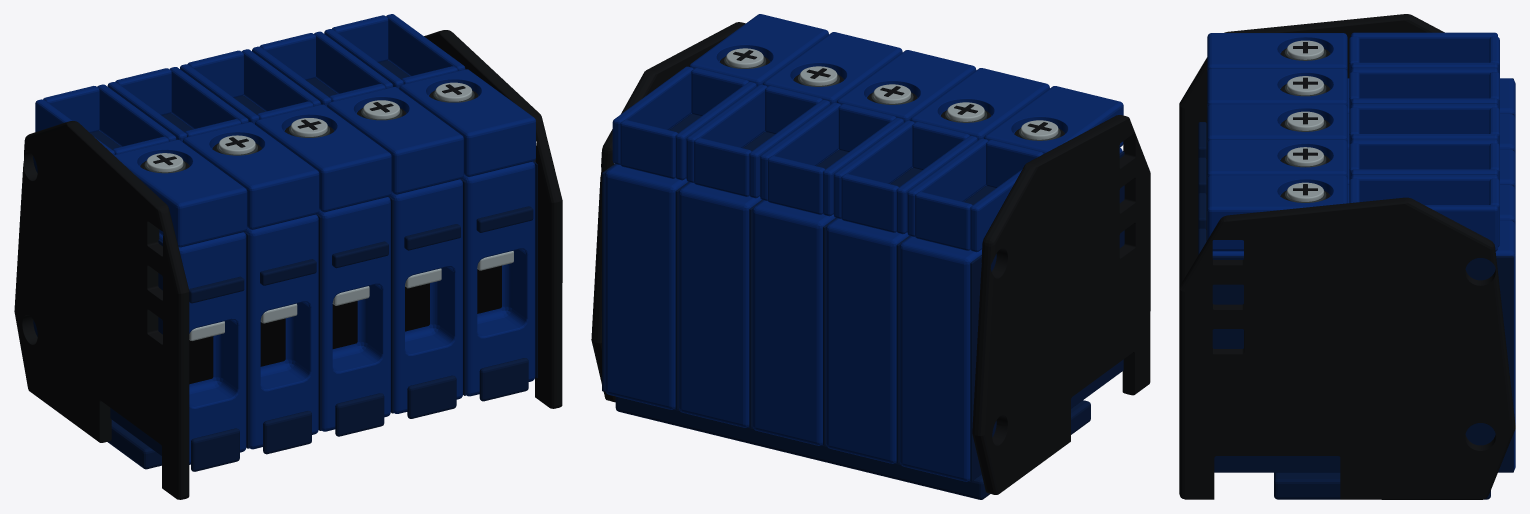
File: clema.obj
The picture shows the model from 3 angles, left to right: view 1: azimuth 30°, elevation 25°; view 2: azimuth 150°, elevation 25°; view 3: azimuth 270°, elevation 25°; orthographic projection. The views are drawn at different scales.
Parts seen in each view (by area): view 1: Фигурная_торцевая_плита_-31, Синий_полюс_5, Синий_полюс_2, Синий_полюс_3, Синий_полюс_4, Синий_полюс_1, Фигурная_торцевая_плита_31, Винтовая_площадка_4, Винтовая_площадка_1, Винтовая_площадка_2, Винтовая_площадка_3, Винтовая_площадка_5 (+37 smaller); view 2: Фигурная_торцевая_плита_-31, Синий_полюс_1, Синий_полюс_4, Синий_полюс_3, Синий_полюс_2, Синий_полюс_5, DIN_основание, Винтовая_площадка_2, Винтовая_площадка_3, Винтовая_площадка_5, Винтовая_площадка_4, Винтовая_площадка_1 (+27 smaller); view 3: Фигурная_торцевая_плита_31, Фигурная_торцевая_плита_-31, Межполюсный_шов_5, Винтовая_площадка_5, Винтовая_площадка_3, Винтовая_площадка_1, Винтовая_площадка_4, Винтовая_площадка_2, Стенка_гнезда_X_3_-1, Стенка_гнезда_X_0_-1, Стенка_гнезда_X_2_-1, Стенка_гнезда_X_1_-1 (+17 smaller).
Part boxes in pixels (x1,y1,x2,y2): Фигурная_торцевая_плита_-31: (14,121,189,499); Синий_полюс_5: (388,60,535,396); Синий_полюс_2: (171,112,318,449); Синий_полюс_3: (243,95,390,431); Синий_полюс_4: (316,77,462,413); Синий_полюс_1: (99,130,246,464); Фигурная_торцевая_плита_31: (424,30,562,408); Винтовая_площадка_4: (327,87,463,194); Винтовая_площадка_1: (114,139,247,247); Винтовая_площадка_2: (182,122,319,229); Винтовая_площадка_3: (255,104,391,212); Винтовая_площадка_5: (399,69,535,176); Фигурная_торцевая_плита_-31: (972,115,1150,494); Синий_полюс_1: (900,148,1122,481); Синий_полюс_4: (679,131,765,427); Синий_полюс_3: (752,149,838,445); Синий_полюс_2: (826,167,912,463); Синий_полюс_5: (605,113,691,409); DIN_основание: (615,396,1090,499); Винтовая_площадка_2: (910,68,1049,140); Винтовая_площадка_3: (837,50,976,122); Винтовая_площадка_5: (689,14,828,86); Винтовая_площадка_4: (763,32,902,104); Винтовая_площадка_1: (984,86,1123,153); Фигурная_торцевая_плита_31: (1179,197,1515,499); Фигурная_торцевая_плита_-31: (1179,14,1444,286); Межполюсный_шов_5: (1212,256,1513,472); Винтовая_площадка_5: (1207,175,1347,251); Винтовая_площадка_3: (1207,104,1347,143); Винтовая_площадка_1: (1207,33,1347,72); Винтовая_площадка_4: (1207,139,1347,178); Винтовая_площадка_2: (1207,68,1347,107); Стенка_гнезда_X_3_-1: (1351,139,1497,169); Стенка_гнезда_X_0_-1: (1351,32,1497,62); Стенка_гнезда_X_2_-1: (1351,103,1497,133); Стенка_гнезда_X_1_-1: (1351,68,1497,98).
Bounding box in the file's own units: 0.064 × 0.0483 × 0.048.
